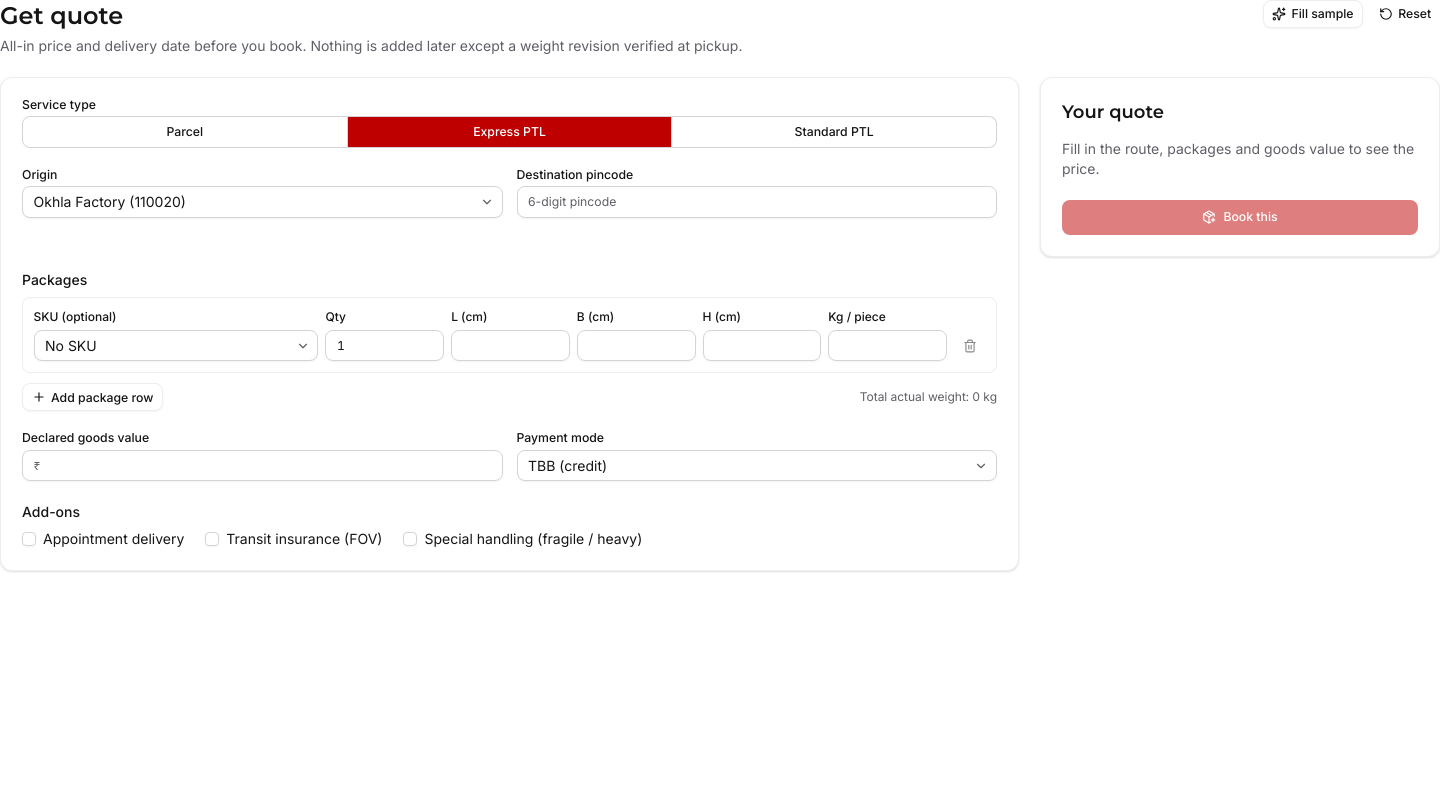
CP-12 Get quote › hero inputs: 162 kg chargeable, total ₹3,628.26, delivery Thu, 26-Nov-2026
The image size is (1440, 810).
Click the button "Fill sample" at (1313, 14), box x1=1262 y1=0 x2=1363 y2=28
(page scrolled)
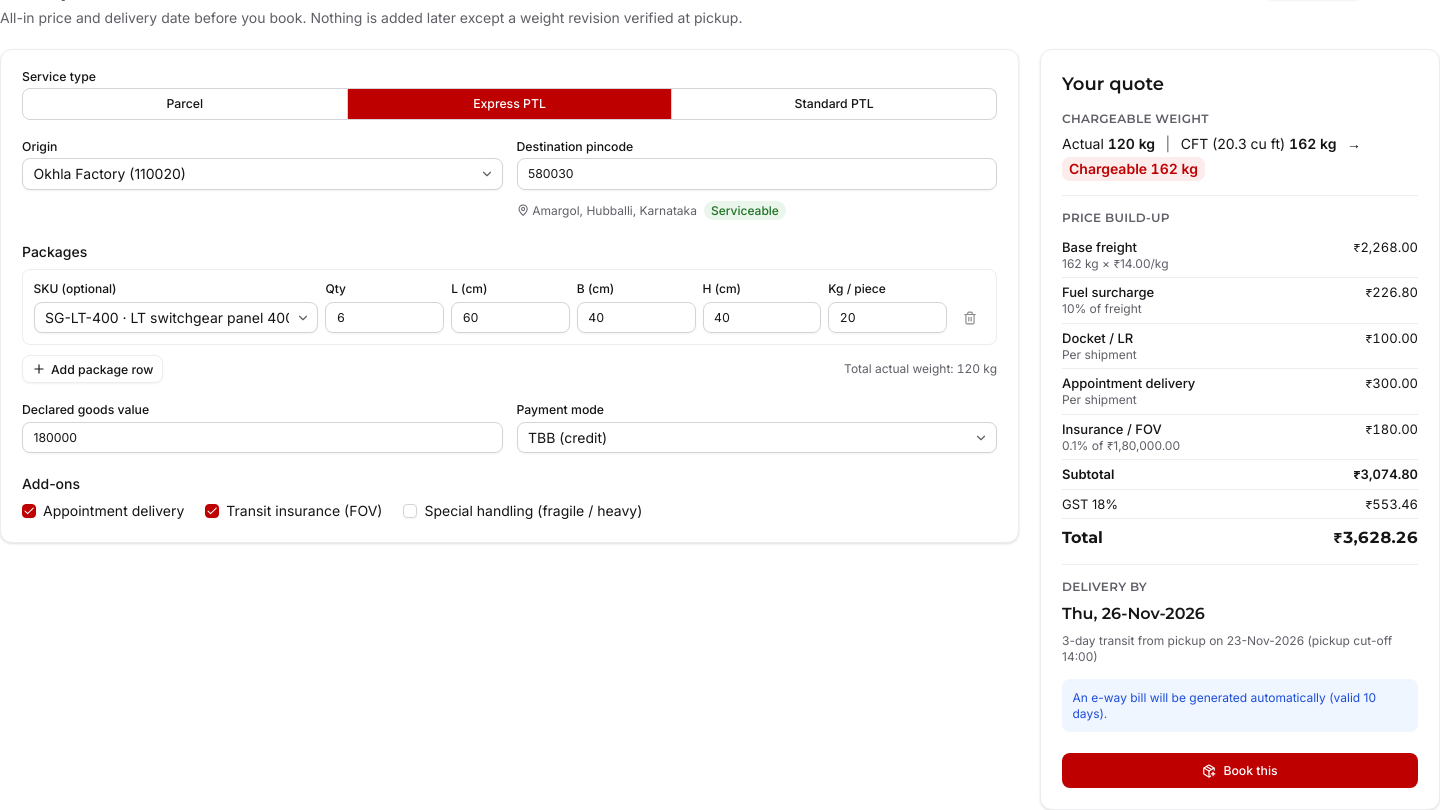
Result: the field labelled "Destination pincode" holds "580030" at x1=516 y1=158 x2=997 y2=190
Result: the text "Amargol, Hubballi, Karnataka" is shown at x1=516 y1=202 x2=697 y2=218
Result: the cell with test id "price-total" reads "₹3,628.26" at x1=1333 y1=528 x2=1418 y2=547
